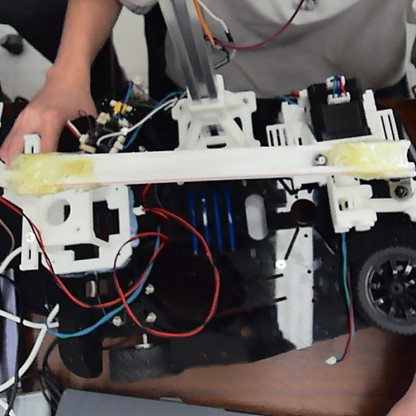ironball: (311, 150, 327, 166)
